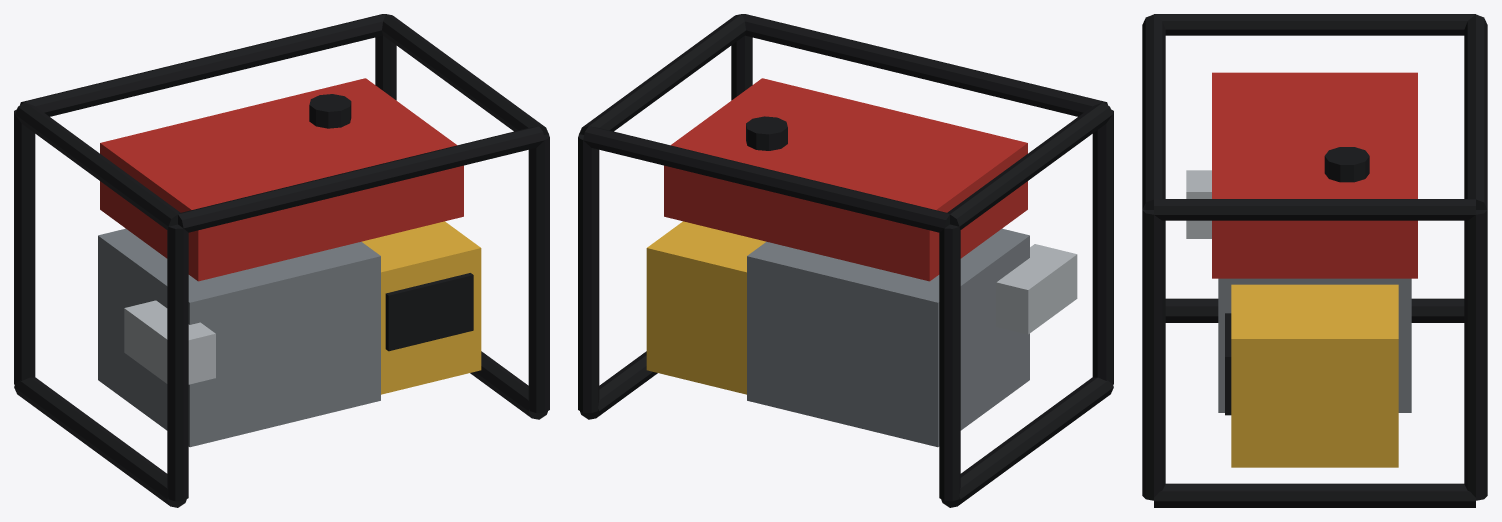
The model's file is lome-groupe.glb.
3 views of the same model, side by side, from view 1: azimuth 30°, elevation 25°; view 2: azimuth 150°, elevation 25°; view 3: azimuth 270°, elevation 25° (orthographic). The views are drawn at different scales.
Parts seen in each view (by area): view 1: reservoir, moteur.001, alternateur, traverse, traverse.001, montant.002, montant.004, montant.003, prises, patin, pot, haut (+4 smaller); view 2: moteur.001, reservoir, alternateur, traverse.001, traverse, montant.003, montant.005, montant.002, pot, patin, haut, haut.001 (+3 smaller); view 3: reservoir, alternateur, patin.001, haut.001, montant.004, montant.005, haut, traverse, traverse.001, moteur.001, patin, bouchon (+2 smaller).
Boxes of the visible parts, x1,y1,x2,y2 form: reservoir: (100,78,463,281); moteur.001: (98,228,380,447); alternateur: (362,221,481,394); traverse: (178,126,544,232); traverse.001: (20,14,385,116); montant.002: (167,224,188,501); montant.004: (528,134,549,413); montant.003: (14,109,35,384); prises: (385,273,473,351); patin: (14,377,186,507); pot: (124,300,215,384); haut: (15,102,180,229); moteur.001: (747,228,1029,447); reservoir: (664,78,1027,281); alternateur: (646,221,765,394); traverse.001: (583,126,949,232); traverse: (742,14,1107,116); montant.003: (939,224,960,501); montant.005: (578,134,599,413); montant.002: (1092,109,1113,384); pot: (996,244,1077,334); patin: (941,377,1113,507); haut: (947,102,1112,229); haut.001: (579,14,745,134); reservoir: (1212,72,1417,278); alternateur: (1231,284,1398,467); patin.001: (1154,483,1475,507); haut.001: (1154,199,1475,220); montant.004: (1142,210,1165,500); montant.005: (1464,210,1487,500); haut: (1154,14,1475,35); traverse: (1142,14,1165,209); traverse.001: (1464,14,1487,209); moteur.001: (1218,278,1411,412); patin: (1165,298,1464,322); bouchon: (1324,147,1369,182).
Bounding box in the file's own units: 0.72 × 0.528 × 0.536.
